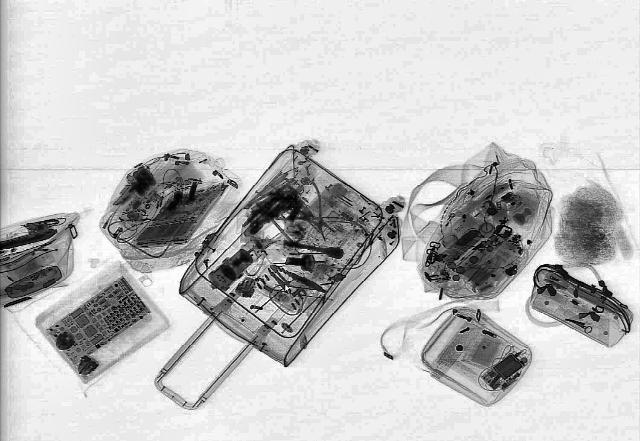Pliers: (252, 182, 364, 254)
